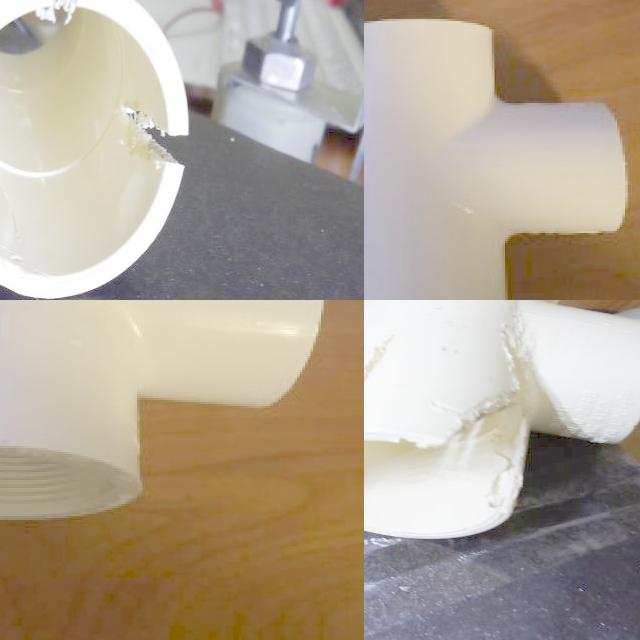Defective: (432, 405, 530, 510), (364, 336, 423, 454), (364, 394, 468, 451), (501, 308, 548, 413), (115, 105, 191, 165), (460, 385, 524, 425), (39, 0, 82, 23)
T Joint: (364, 19, 629, 300), (364, 300, 640, 542)
